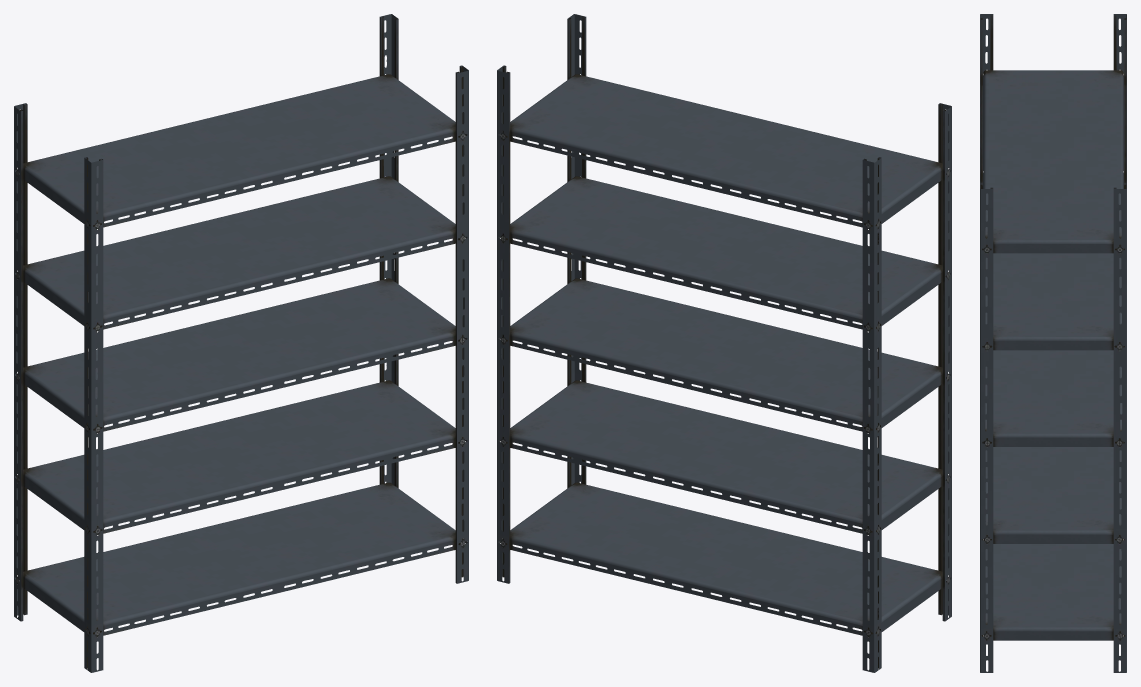
Rendered from metal_shelf_-_5mb2.glb.
3 renders of one model, left to right at view 1: azimuth 30°, elevation 25°; view 2: azimuth 150°, elevation 25°; view 3: azimuth 270°, elevation 25°, orthographic. The views are drawn at different scales.
Visible parts, largest first — view 1: Cloner_1__0; view 2: Cloner_1__0; view 3: Cloner_1__0.
Part boxes in pixels (x1,y1,x2,y2): Cloner_1__0: (14, 14, 468, 672); Cloner_1__0: (497, 14, 951, 672); Cloner_1__0: (980, 14, 1126, 672).
Bounding box in the file's own units: 1.55 × 2 × 0.55.
1 material, 1 textured.
